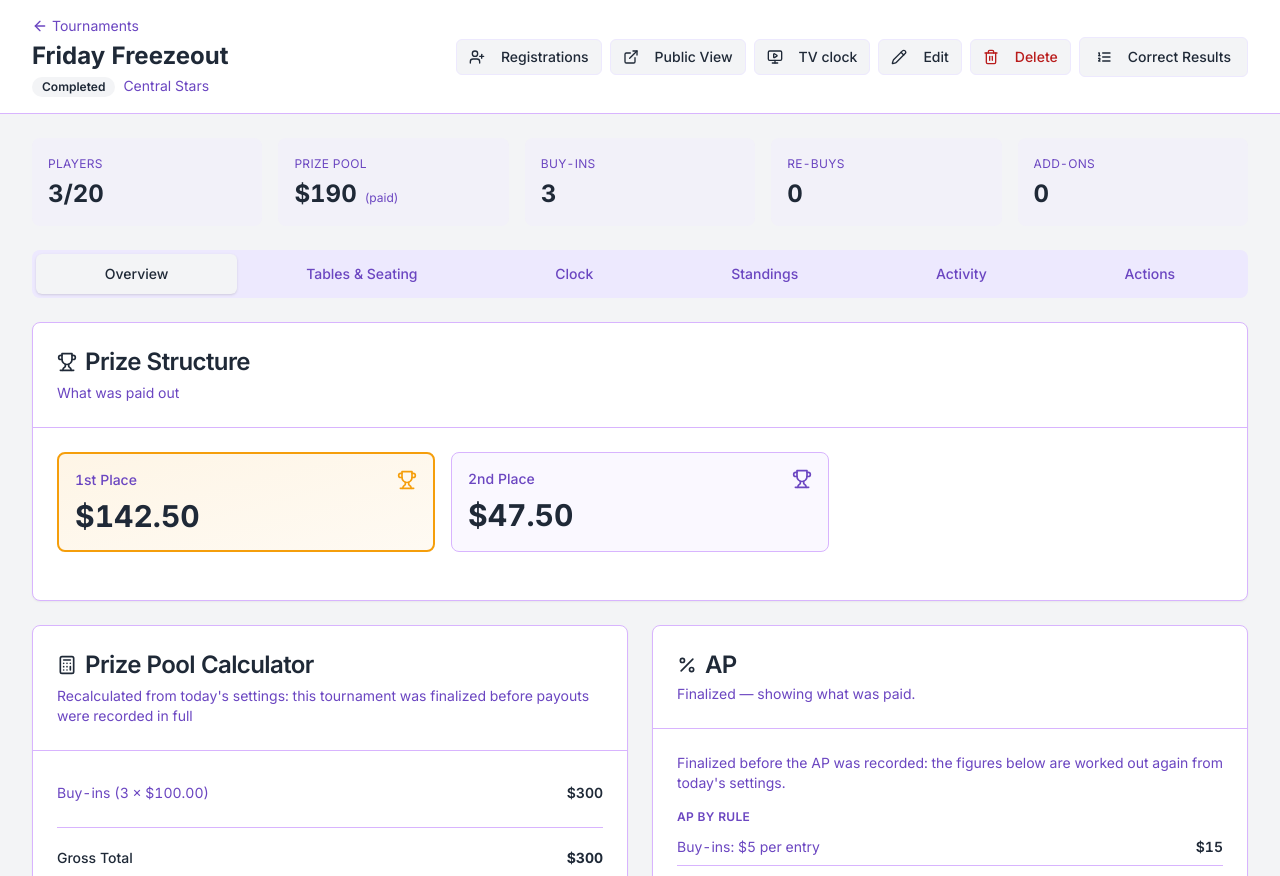
Test: TournamentDetailsPage: after finalize › shows each player's place, not Active, under Final Standings
What coordinates should you click on to do the following:
click the tab "Standings"
I would click on:
 (765, 274)
Its box is [662, 254, 867, 294].
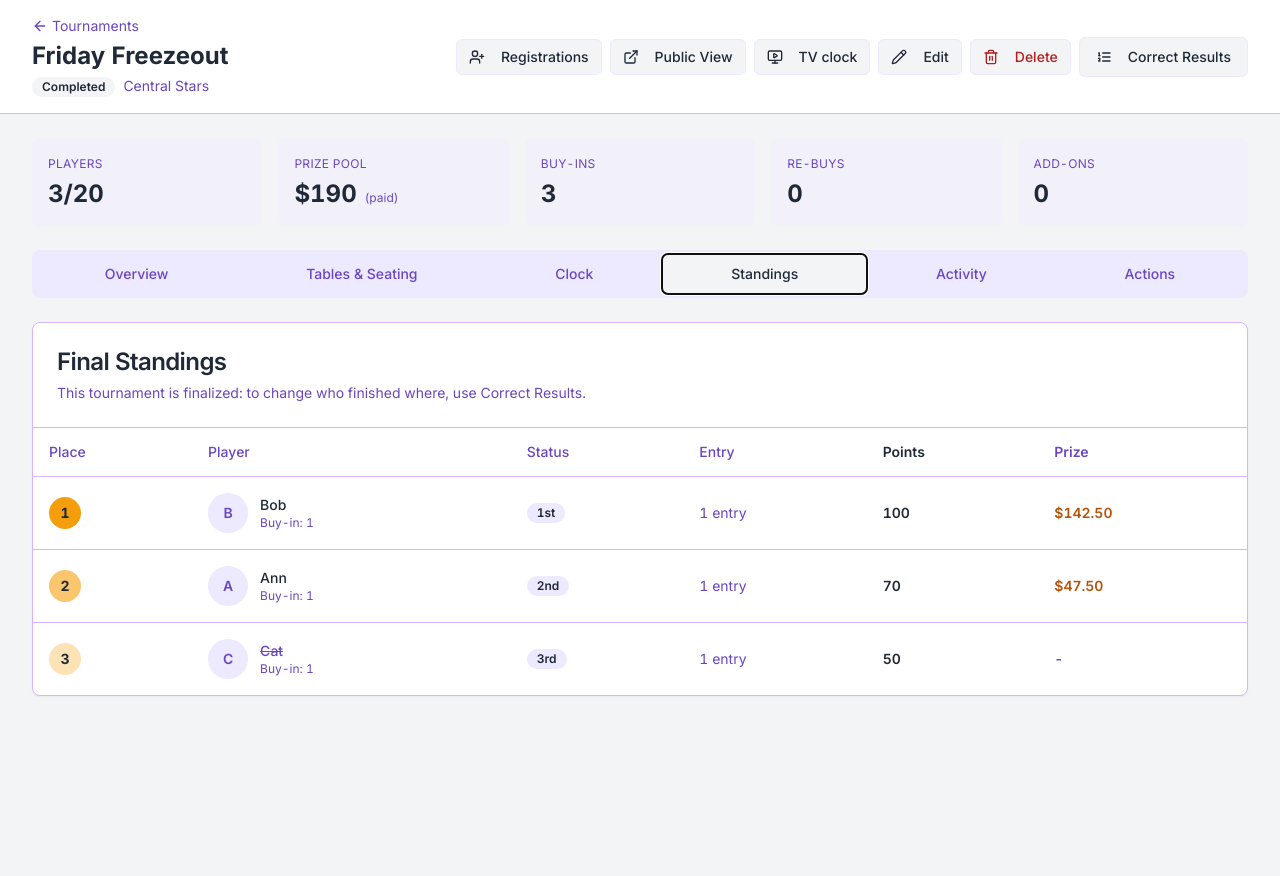
Expected: the heading "Final Standings" is shown, [57, 347, 226, 376]
Expected: the row with test id "player-row-r2" shows "1st", [537, 505, 555, 520]
Expected: the row with test id "player-row-r1" shows "2nd", [537, 578, 559, 593]
